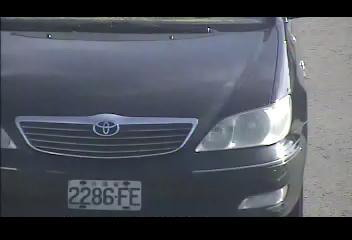plate: (66, 178, 143, 213)
